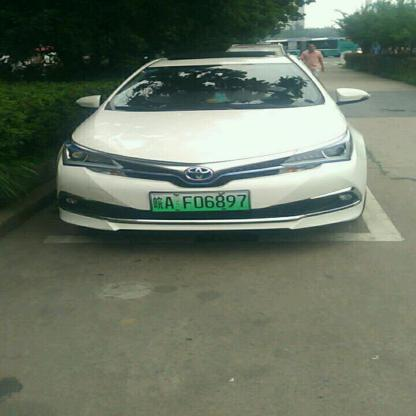lp: (151, 190, 251, 213)
